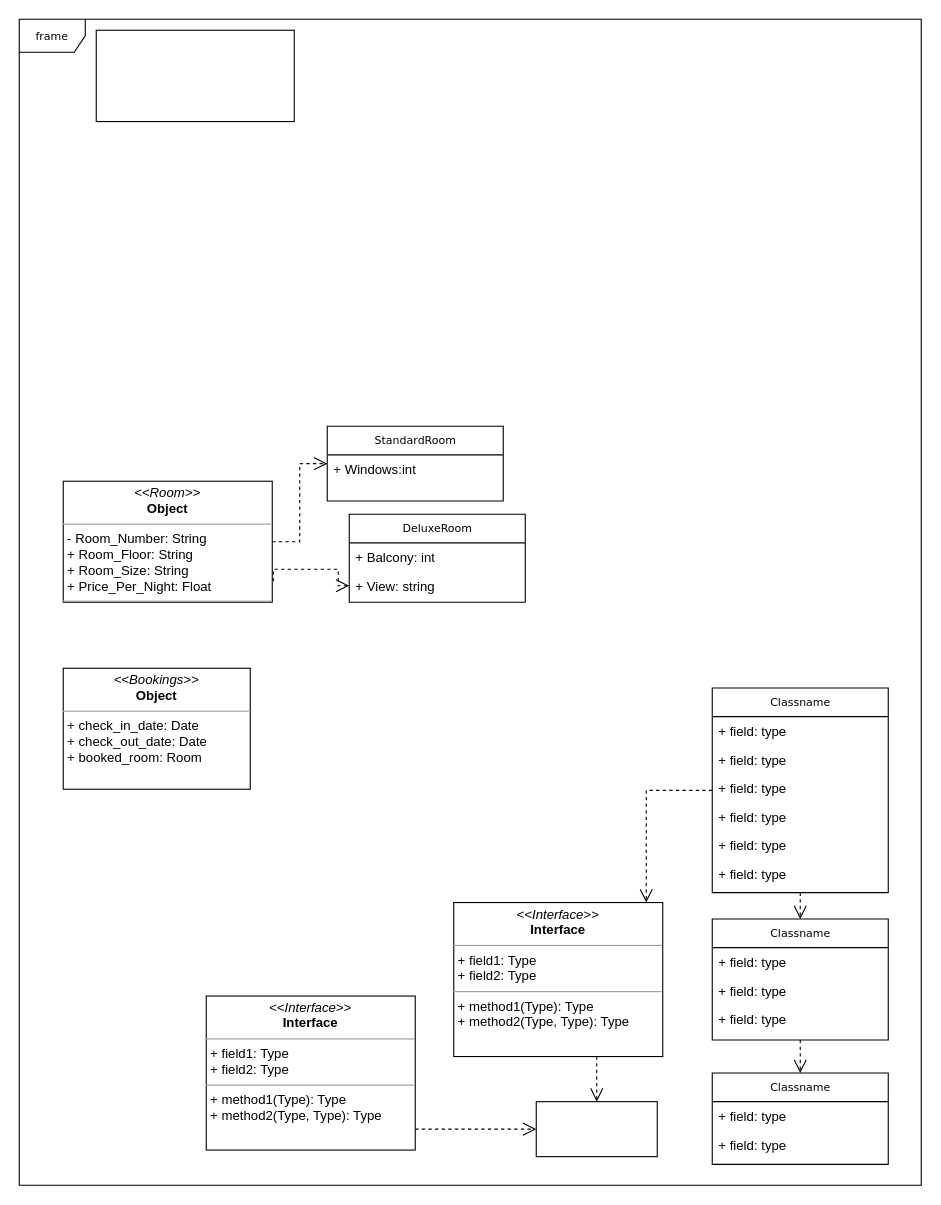
Some shapes in this 941 by 1205 pixel diagram are drawn without their labels. Each missing label, with the centre of its shape:
<<User>> Object + Username: String + IsAdmin: boolean: point 194,75
«interface» Name: point 596,1129
